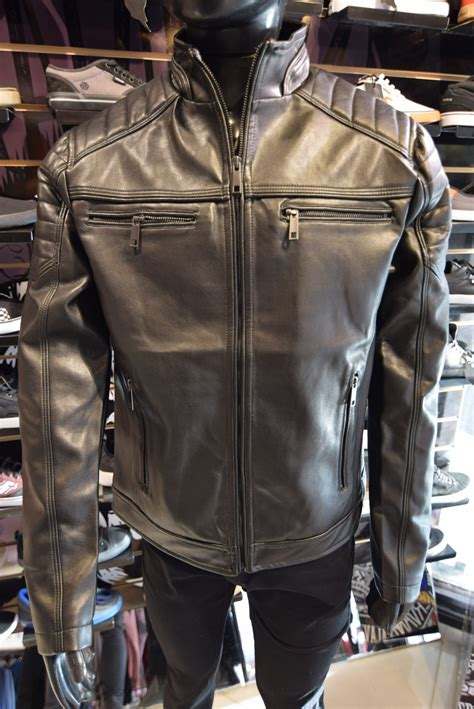cuero: (17, 21, 450, 655)
